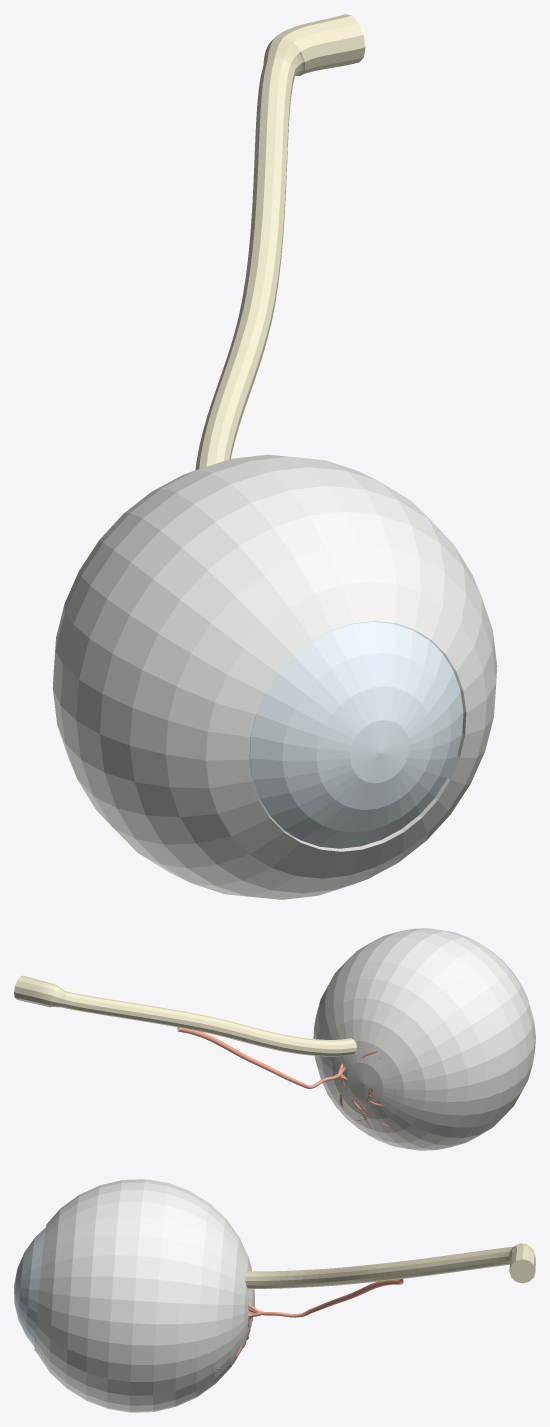
Rendered from human-eye.glb.
3 views of the same model, one above another, from view 1: azimuth 30°, elevation 25°; view 2: azimuth 150°, elevation 25°; view 3: azimuth 270°, elevation 25° (orthographic). The views are drawn at different scales.
Visible parts, largest first — view 1: human-eye-sclera.r, human-eye-cornea.r, human-eye-optic-nerve-ii.r; view 2: human-eye-sclera.r, human-eye-optic-nerve-ii.r, human-eye-central-retinal-artery.r; view 3: human-eye-sclera.r, human-eye-optic-nerve-ii.r, human-eye-cornea.r, human-eye-central-retinal-artery.r.
Boxes of the visible parts, <box> form: human-eye-sclera.r: <box>52,454,497,899</box>; human-eye-cornea.r: <box>249,621,463,848</box>; human-eye-optic-nerve-ii.r: <box>195,14,365,470</box>; human-eye-sclera.r: <box>313,928,535,1150</box>; human-eye-optic-nerve-ii.r: <box>14,975,356,1056</box>; human-eye-central-retinal-artery.r: <box>177,1027,396,1135</box>; human-eye-sclera.r: <box>34,1179,254,1412</box>; human-eye-optic-nerve-ii.r: <box>244,1243,535,1288</box>; human-eye-cornea.r: <box>14,1227,45,1346</box>; human-eye-central-retinal-artery.r: <box>199,1263,403,1395</box>.
Bounding box in the file's own units: 0.1093 × 0.08 × 0.1477.
